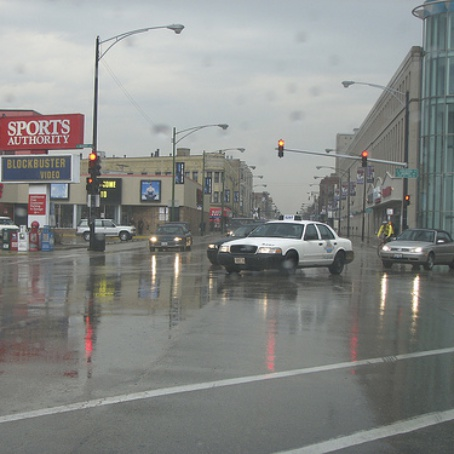building: (340, 1, 454, 246), (1, 152, 249, 221)
car: (218, 210, 360, 279), (384, 220, 454, 272), (140, 216, 196, 253)
light pole: (79, 17, 187, 260), (343, 73, 413, 229), (173, 120, 228, 217)
sign: (1, 152, 74, 183), (1, 114, 74, 145)
sky: (1, 1, 351, 126)
street: (19, 247, 454, 454)
